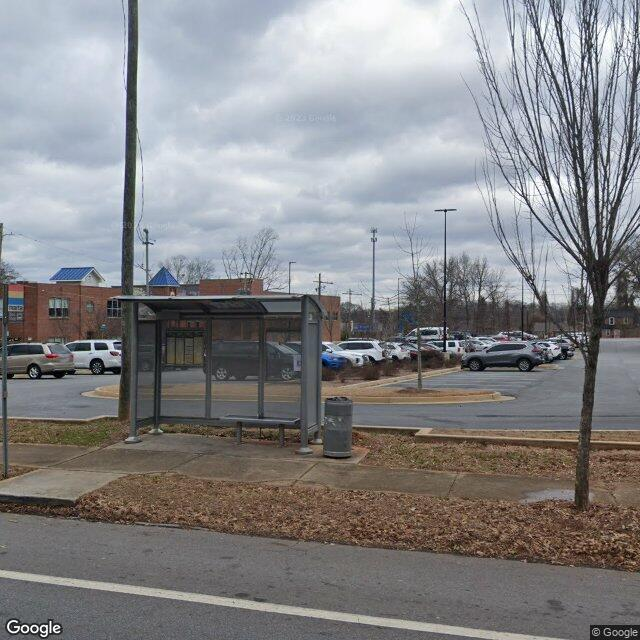seating: (222, 413, 300, 448)
shelter: (110, 293, 328, 454)
trash_can: (322, 395, 354, 458)
